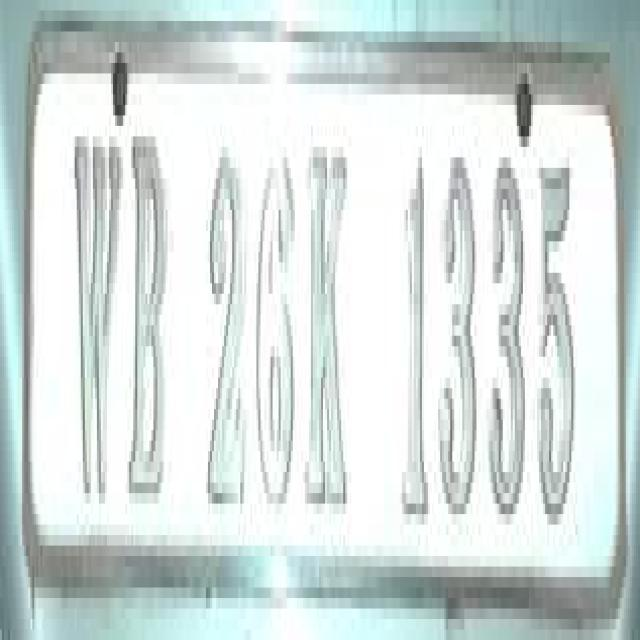license_plate: (26, 31, 640, 608)
